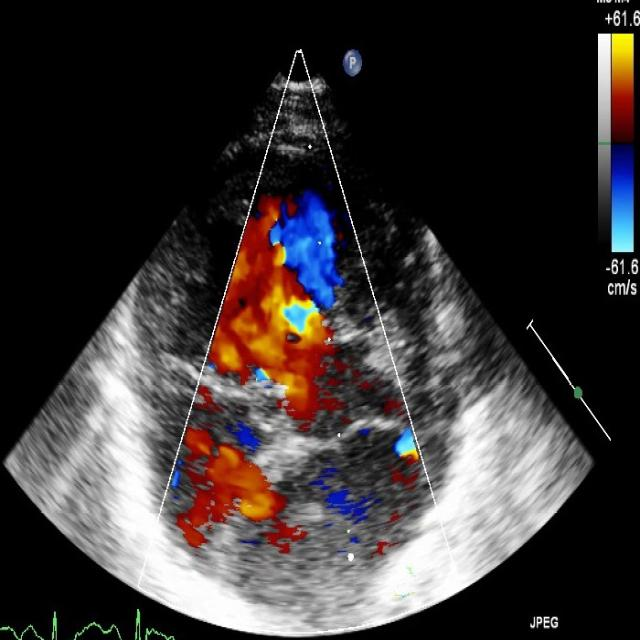VSDType2: (232, 259, 336, 422)
